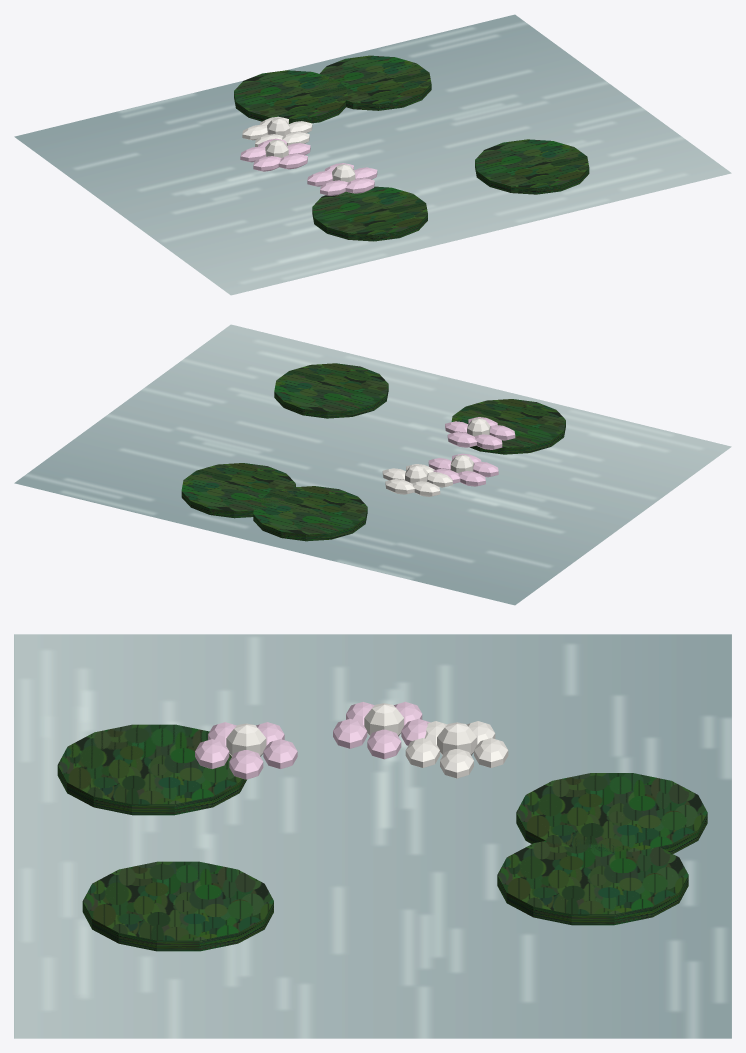
File: ben-do-luc-binh-troi.glb
The picture shows the model from 3 angles, top to bottom: view 1: azimuth 30°, elevation 25°; view 2: azimuth 150°, elevation 25°; view 3: azimuth 270°, elevation 25°; orthographic projection. The views are drawn at different scales.
Visible parts, largest first — view 1: ben-do-luc-binh-troi; view 2: ben-do-luc-binh-troi; view 3: ben-do-luc-binh-troi.
Boxes of the visible parts, x1,y1,x2,y2 form: ben-do-luc-binh-troi: (14,14,731,295); ben-do-luc-binh-troi: (14,324,731,605); ben-do-luc-binh-troi: (14,634,731,1038).
Size of the model in its own units: 1.6 by 0.105 by 1.2.
Materials: 4 (2 with a texture image).
